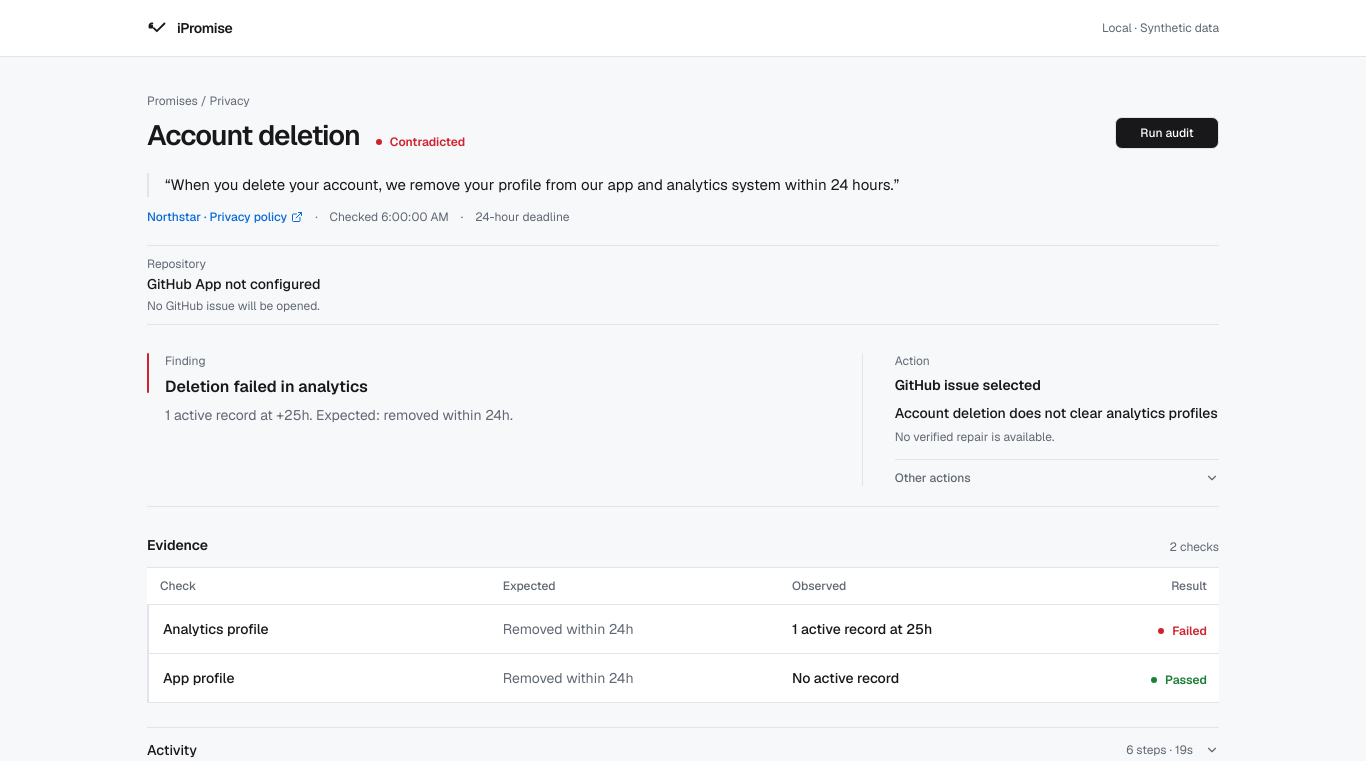
Promise Dashboard presentation provenance › does not announce completion when live polling reaches its limit
The width and height of the screenshot is (1366, 761).
Click the button "Run audit" at (1167, 133), box [1115,117,1219,149]
Wait 121000 ms
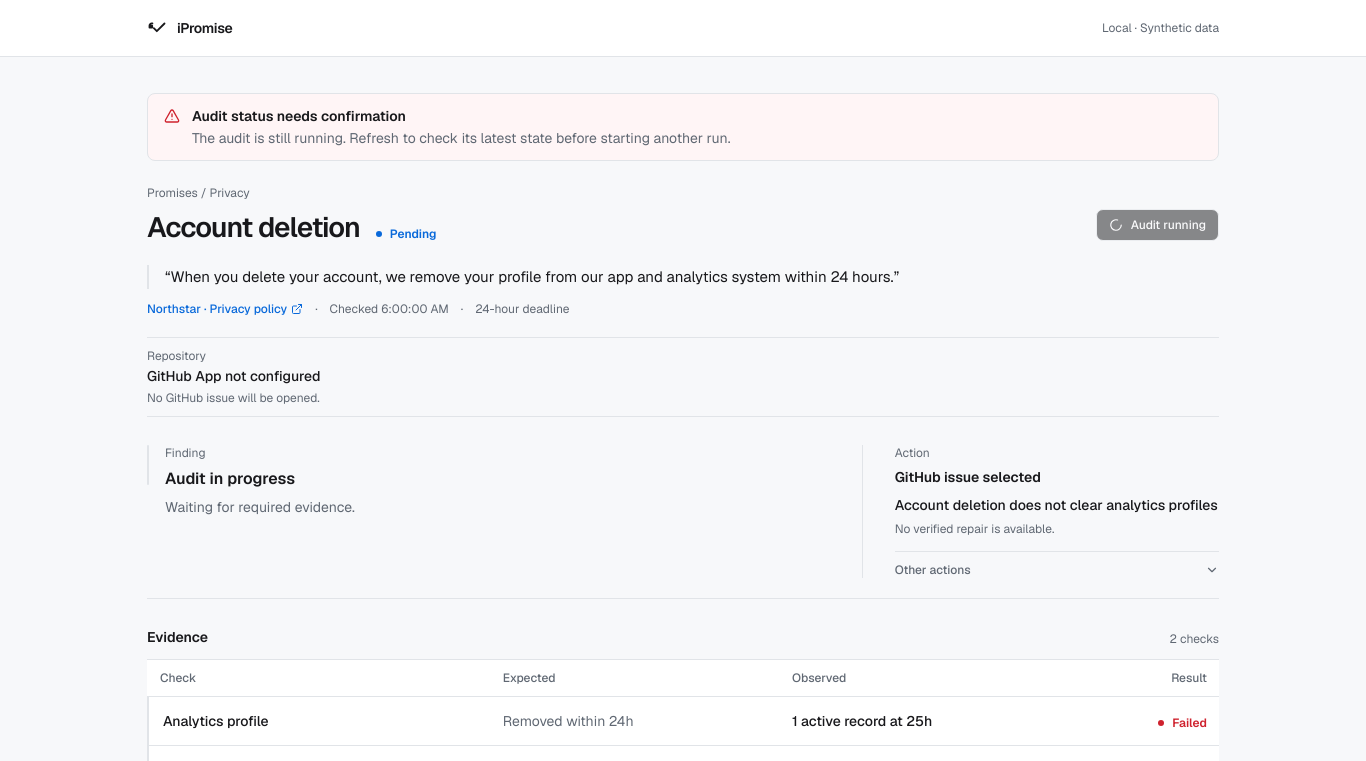
Now the text "Audit status needs confirmation" is shown, box [192,107,406,125]
Now the text "The audit is still running." is shown, box [192,129,730,147]
Now the button "Audit running" is disabled, box [1096,209,1219,241]
